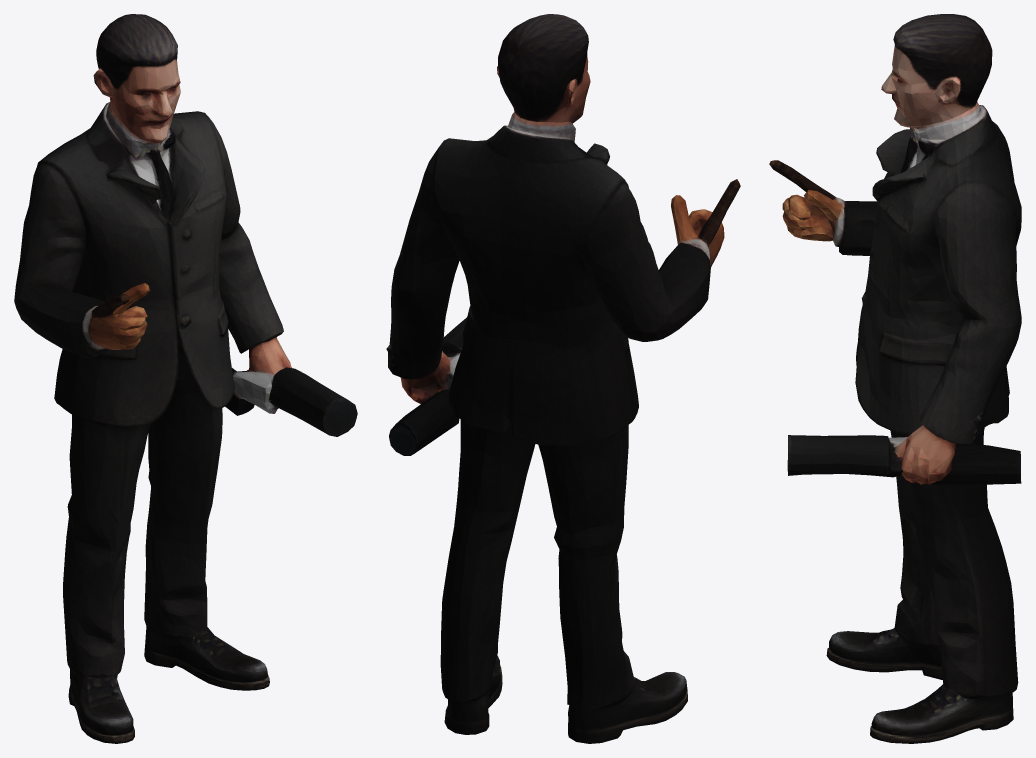
File: Nikola Tesla.fbx
3 renders of one model, left to right at view 1: azimuth 30°, elevation 25°; view 2: azimuth 150°, elevation 25°; view 3: azimuth 270°, elevation 25°, orthographic. The views are drawn at different scales.
Visible parts, largest first — view 1: world; view 2: world; view 3: world.
Part boxes in pixels (bbox=[...]): world: bbox=[14, 14, 357, 743]; world: bbox=[386, 14, 740, 743]; world: bbox=[769, 14, 1021, 743].
Bounding box in the file's own units: 41.71 × 99.97 × 33.81.
Materials: 1 (1 with a texture image).
